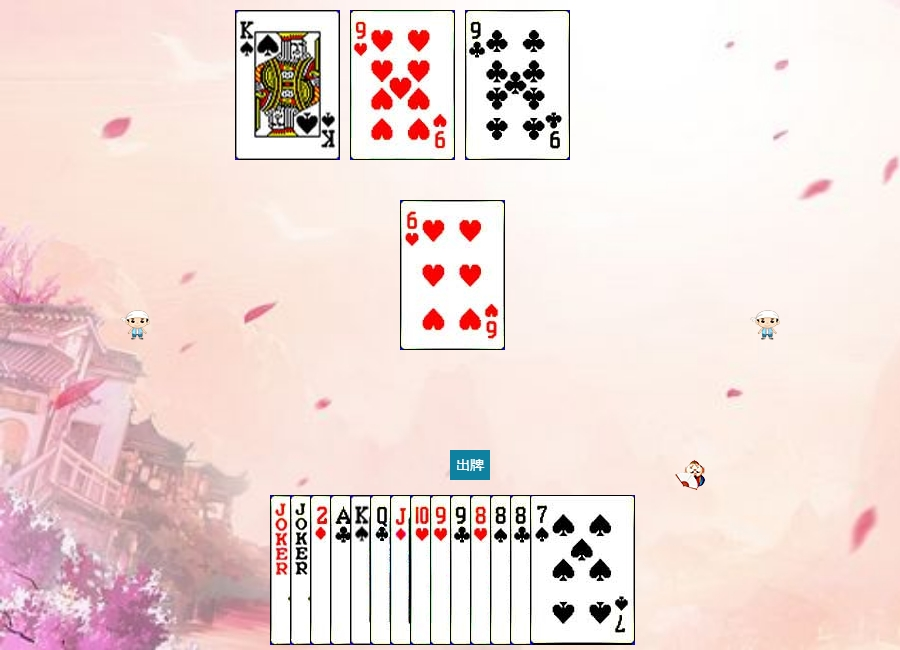10~3: (410, 495, 515, 645)
11~1: (390, 495, 495, 645)
12~2: (370, 495, 475, 645)
13~4: (235, 10, 340, 160), (350, 495, 455, 645)
14~2: (330, 495, 435, 645)
15~1: (310, 495, 415, 645)
17~3: (290, 495, 395, 645)
18~4: (270, 495, 375, 645)
6~3: (400, 200, 505, 350)
7~4: (530, 495, 635, 645)
8~2: (510, 495, 615, 645)
8~3: (470, 495, 575, 645)
8~4: (490, 495, 595, 645)
9~2: (465, 10, 570, 160), (450, 495, 555, 645)
9~3: (350, 10, 455, 160), (430, 495, 535, 645)
